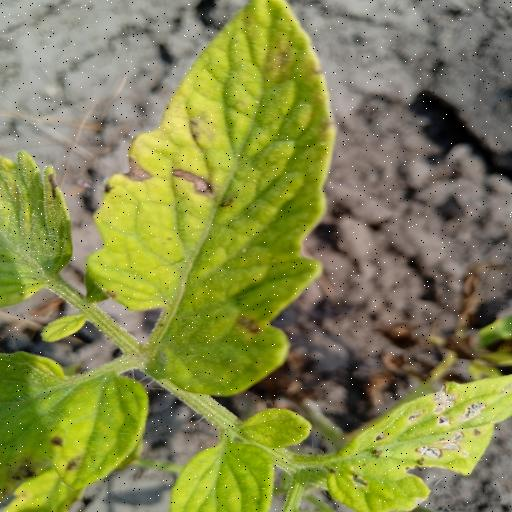Tomato_Brown_Spots: (80, 0, 338, 396)
